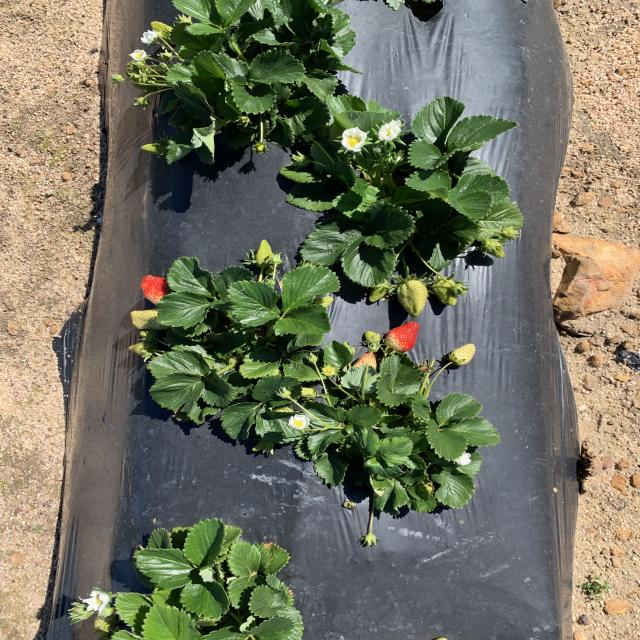unripe: (139, 274, 188, 308), (382, 322, 423, 352)
